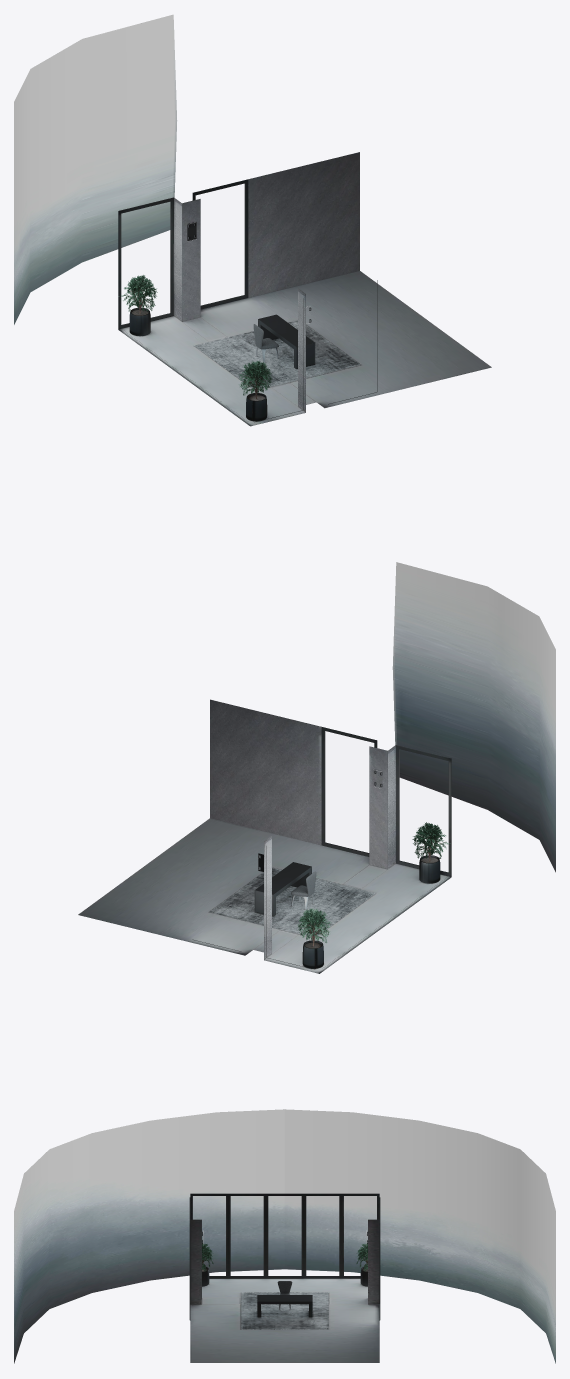
Rendered from office-mobile.glb.
The picture shows the model from 3 angles, top to bottom: view 1: azimuth 30°, elevation 25°; view 2: azimuth 150°, elevation 25°; view 3: azimuth 270°, elevation 25°; orthographic projection. The views are drawn at different scales.
Parts seen in each view (by area): view 1: Minimalistic Modern Office_Structure_0, Minimalistic Modern Office_Background_0, Carpet_Carpet_0, Minimalistic Modern Office_Plants_0, Minimalistic Modern Office_Table_0; view 2: Minimalistic Modern Office_Structure_0, Minimalistic Modern Office_Background_0, Carpet_Carpet_0, Minimalistic Modern Office_Plants_0, Minimalistic Modern Office_Table_0; view 3: Minimalistic Modern Office_Background_0, Minimalistic Modern Office_Structure_0, Carpet_Carpet_0, Minimalistic Modern Office_Plants_0, Minimalistic Modern Office_Table_0.
Boxes of the visible parts, left/top/right/bottom form: Minimalistic Modern Office_Structure_0: left=118, top=152, right=491, bottom=426; Minimalistic Modern Office_Background_0: left=14, top=14, right=177, bottom=324; Carpet_Carpet_0: left=194, top=320, right=360, bottom=389; Minimalistic Modern Office_Plants_0: left=118, top=275, right=272, bottom=421; Minimalistic Modern Office_Table_0: left=258, top=314, right=315, bottom=369; Minimalistic Modern Office_Structure_0: left=78, top=699, right=451, bottom=973; Minimalistic Modern Office_Background_0: left=392, top=562, right=555, bottom=872; Carpet_Carpet_0: left=209, top=868, right=376, bottom=936; Minimalistic Modern Office_Plants_0: left=297, top=822, right=450, bottom=968; Minimalistic Modern Office_Table_0: left=254, top=862, right=311, bottom=916; Minimalistic Modern Office_Background_0: left=14, top=1109, right=555, bottom=1363; Minimalistic Modern Office_Structure_0: left=189, top=1193, right=380, bottom=1362; Carpet_Carpet_0: left=241, top=1292, right=328, bottom=1329; Minimalistic Modern Office_Plants_0: left=188, top=1243, right=381, bottom=1286; Minimalistic Modern Office_Table_0: left=257, top=1295, right=312, bottom=1317.
Size of the model in its own units: 13.11 by 8.11 by 24.91.
Materials: 9 (7 with a texture image).
